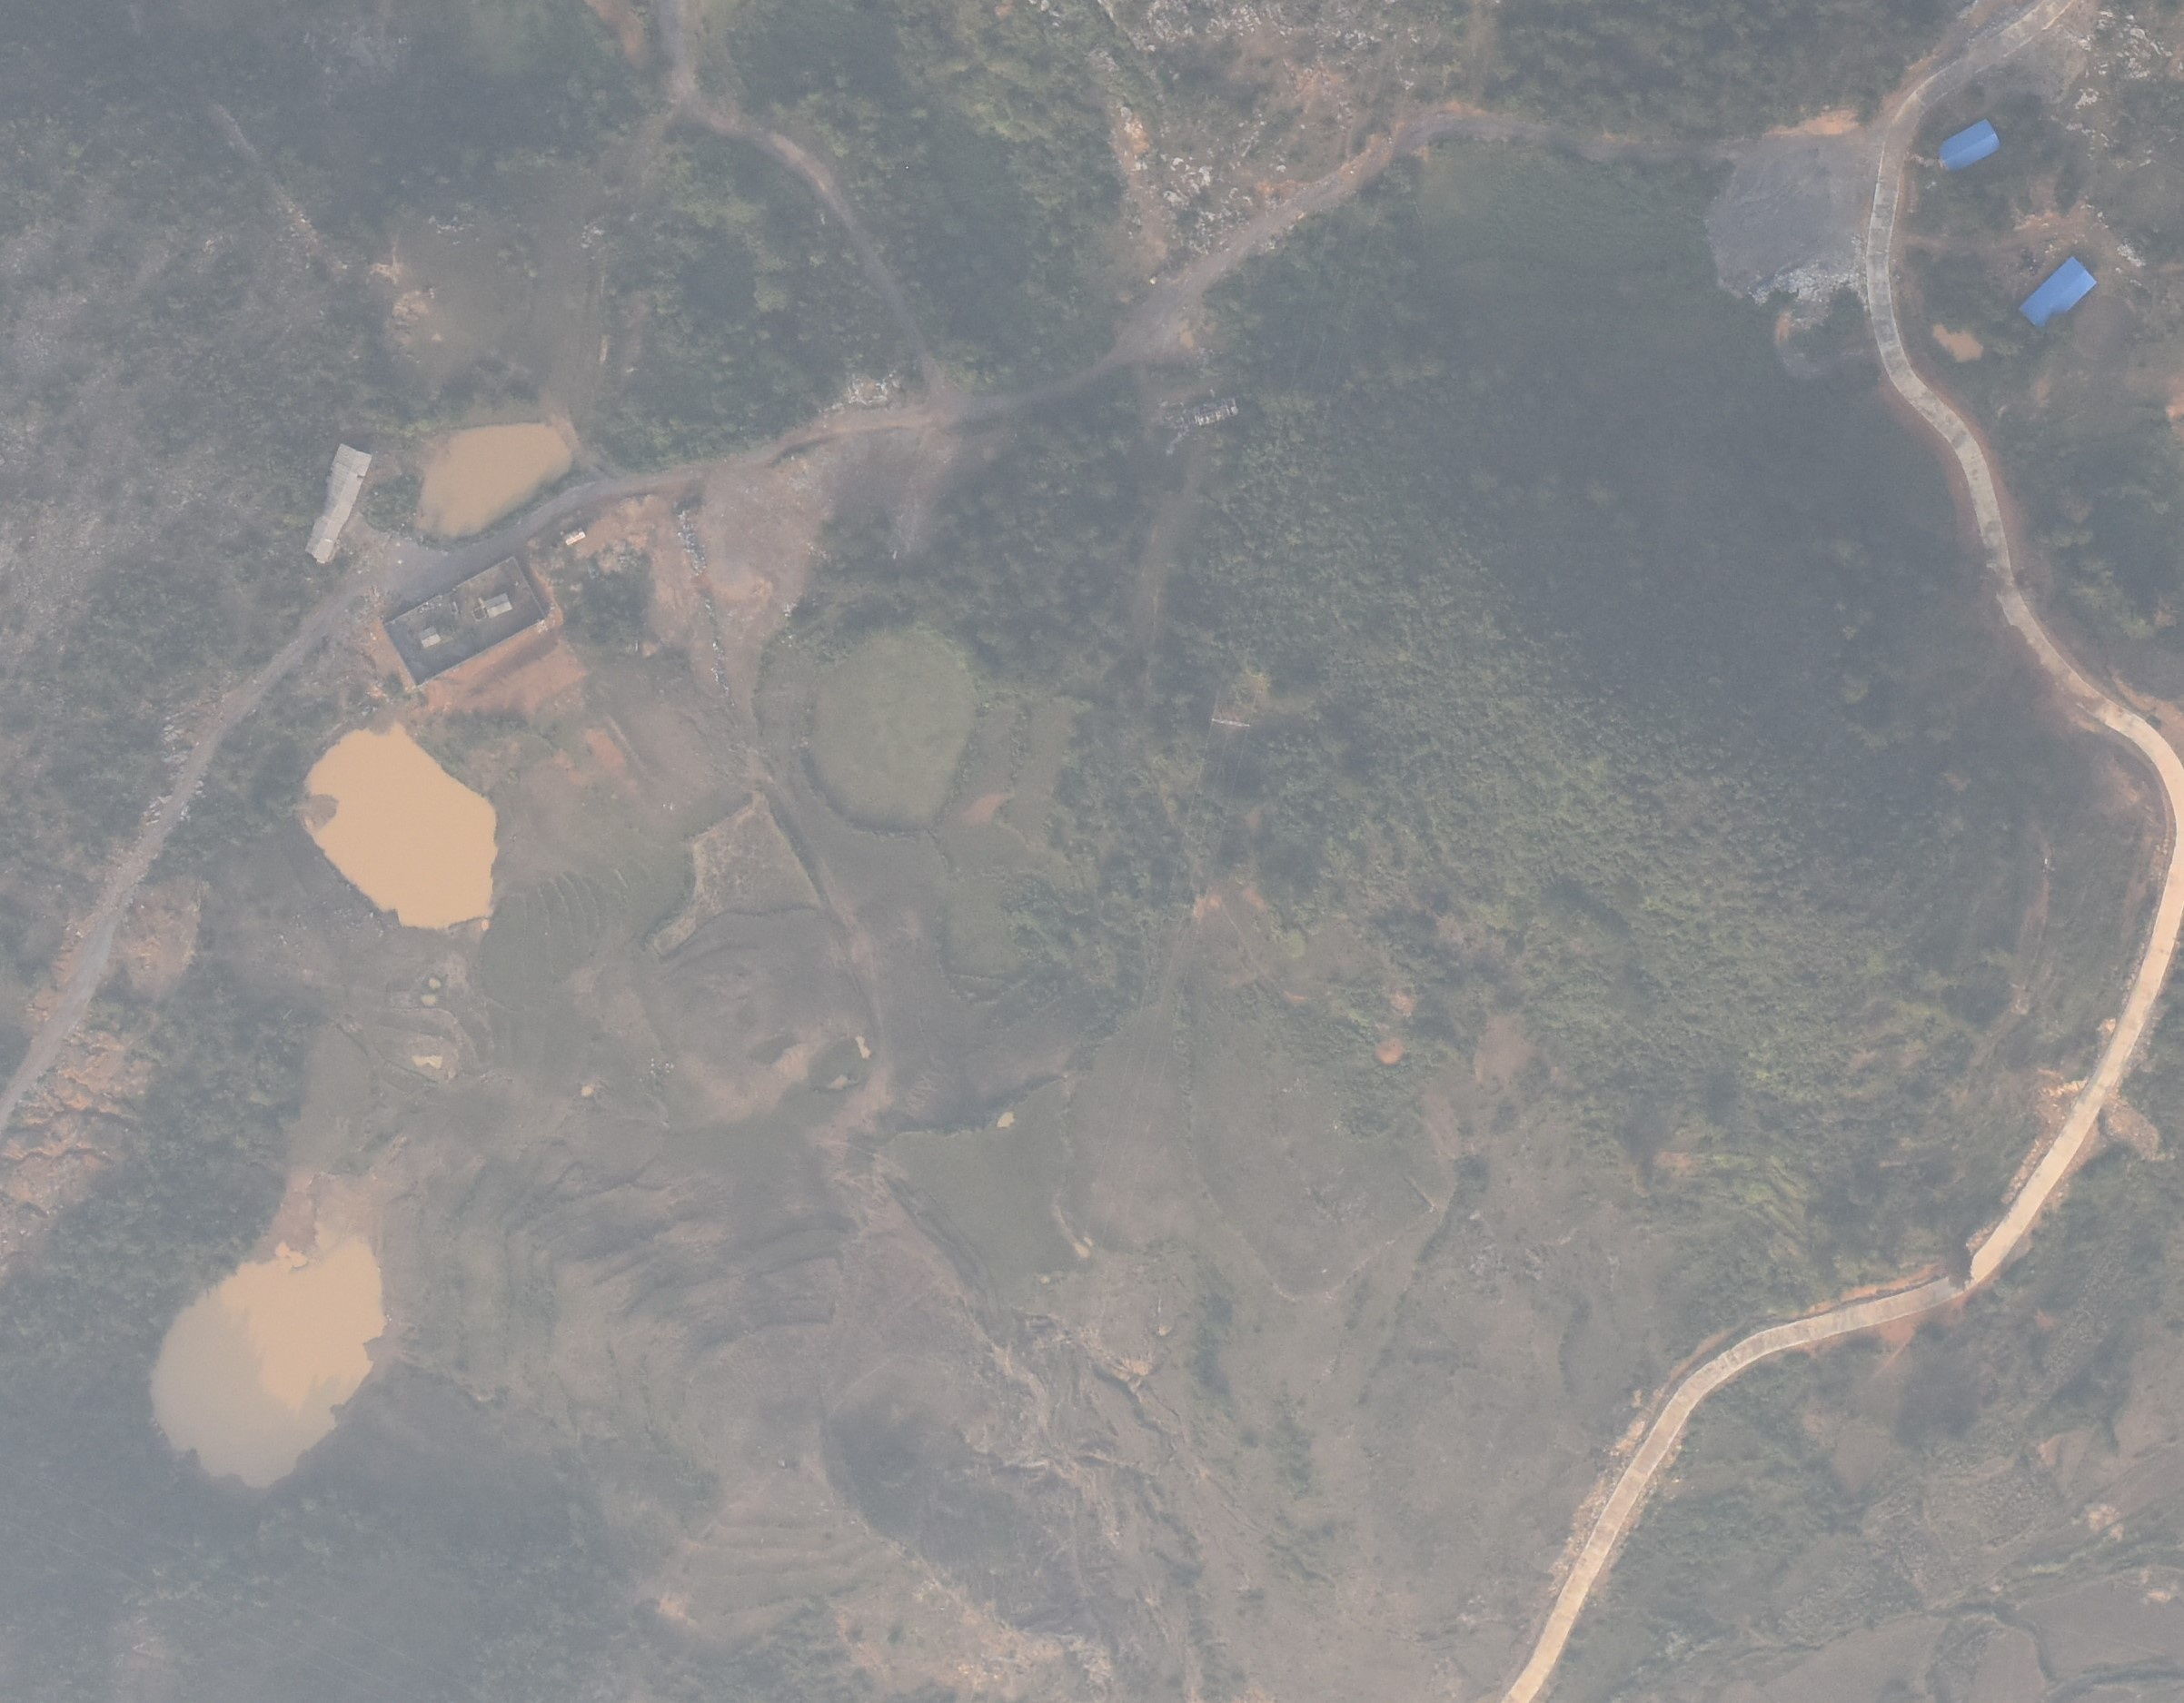building: (296, 437, 376, 567), (478, 591, 512, 619), (418, 625, 442, 648), (561, 527, 585, 545)
cable-tower: (1204, 700, 1258, 748)
pool: (143, 1220, 419, 1515), (273, 716, 516, 947), (395, 409, 581, 540), (1922, 321, 1988, 365)
prefabricated-house: (2020, 253, 2099, 334), (1933, 114, 2001, 174)
quarry: (1700, 121, 1883, 322)
